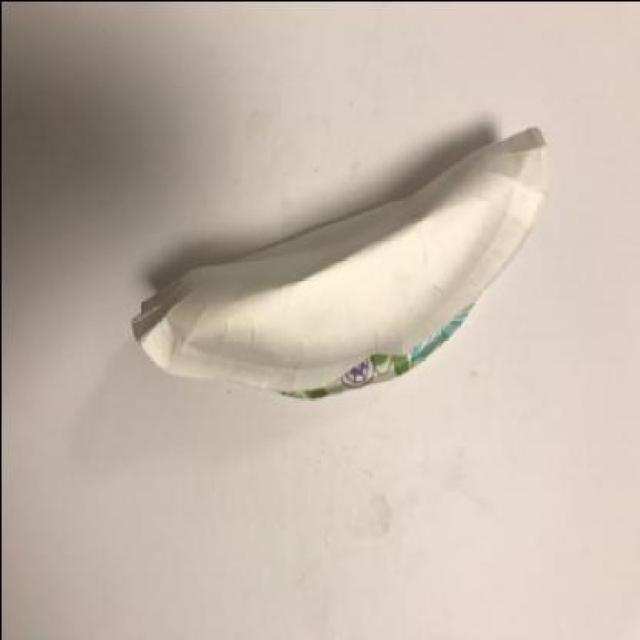CARDBOARD: (131, 125, 547, 397)
PAPER: (132, 123, 546, 397)
